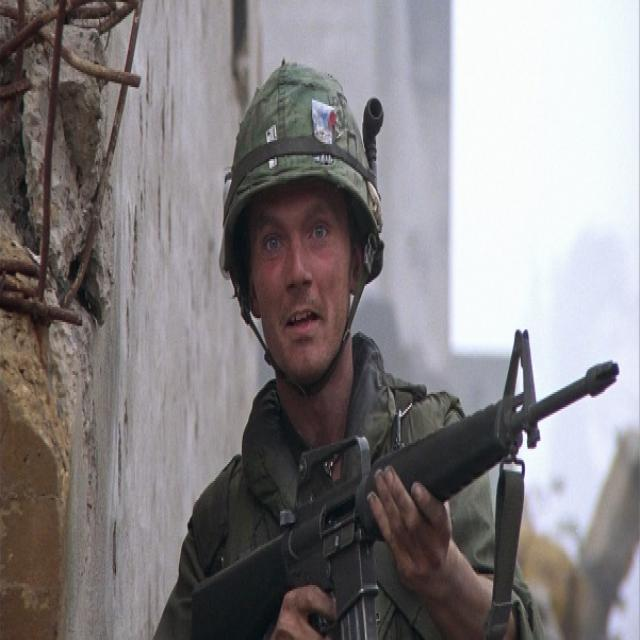rifle: (187, 325, 630, 640)
